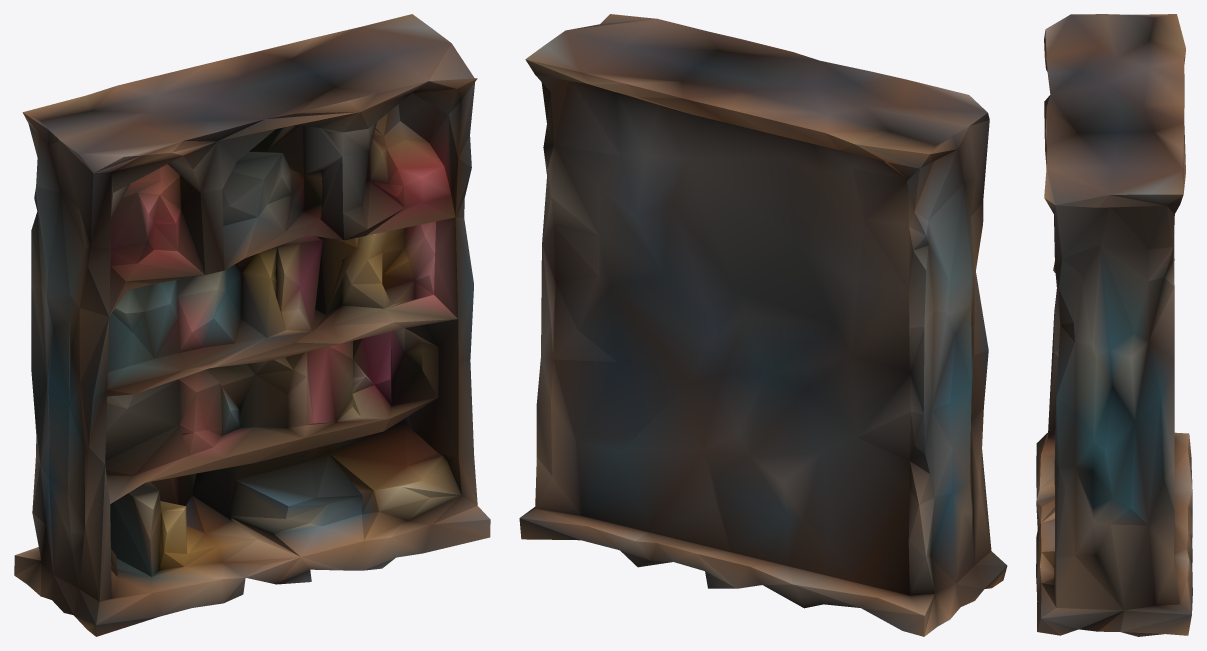
Rendered from lib_bookshelf.vc2.glb.
The picture shows the model from 3 angles, left to right: view 1: azimuth 30°, elevation 25°; view 2: azimuth 150°, elevation 25°; view 3: azimuth 270°, elevation 25°; orthographic projection. The views are drawn at different scales.
Visible parts, largest first — view 1: lib_bookshelf; view 2: lib_bookshelf; view 3: lib_bookshelf.
Boxes of the visible parts, <box> form: lib_bookshelf: <box>14,14,490,636</box>; lib_bookshelf: <box>519,14,1007,636</box>; lib_bookshelf: <box>1036,14,1192,636</box>.
Size of the model in its own units: 1.67 by 1.9 by 0.6098.
